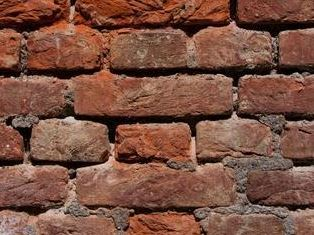brick: (76, 165, 238, 207), (74, 74, 234, 115), (75, 1, 232, 23), (238, 73, 314, 116), (113, 122, 192, 163), (195, 28, 274, 68), (32, 122, 109, 162), (1, 165, 70, 209), (25, 31, 104, 69), (197, 119, 273, 158), (110, 31, 191, 67), (244, 169, 314, 208), (1, 76, 66, 116), (236, 1, 314, 22), (277, 29, 314, 67)
